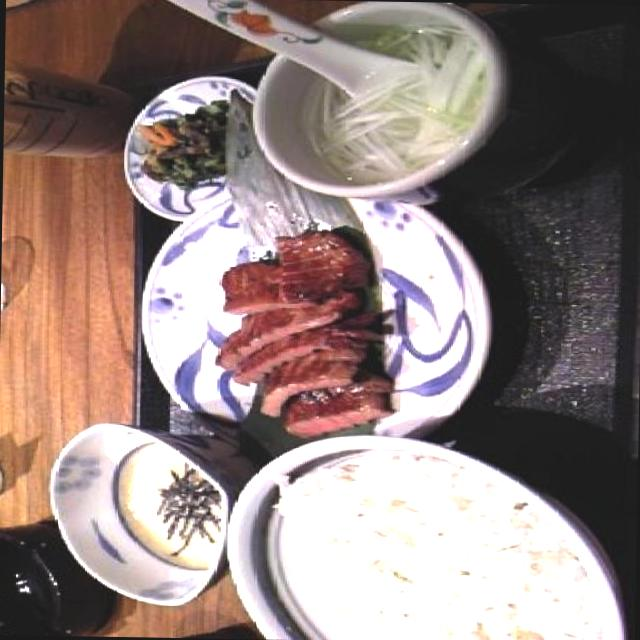Rice: (288, 460, 612, 640)
